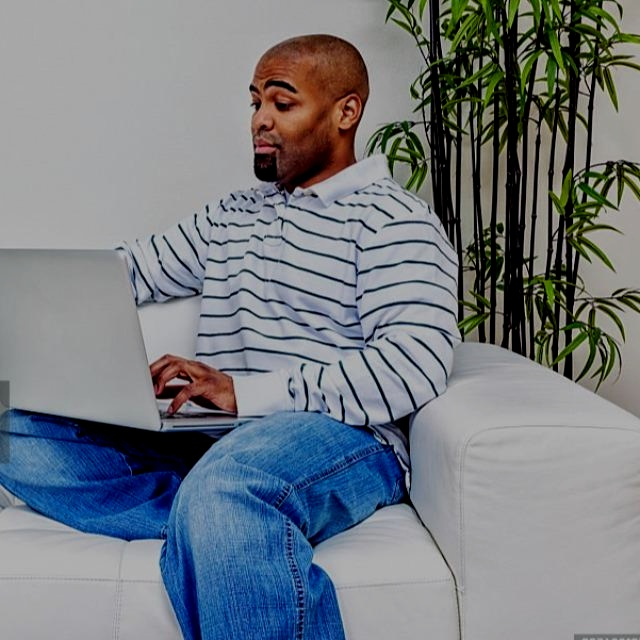Sin_Casco_Mascarrilla: (249, 31, 369, 187)
